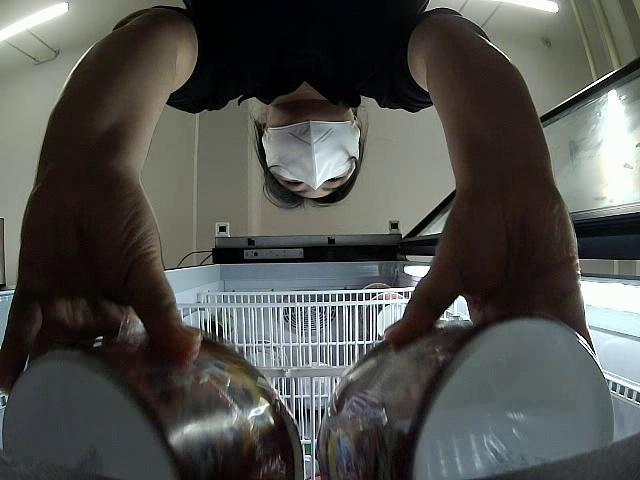05_nuguri_L: (5, 310, 304, 480), (314, 313, 618, 480)
